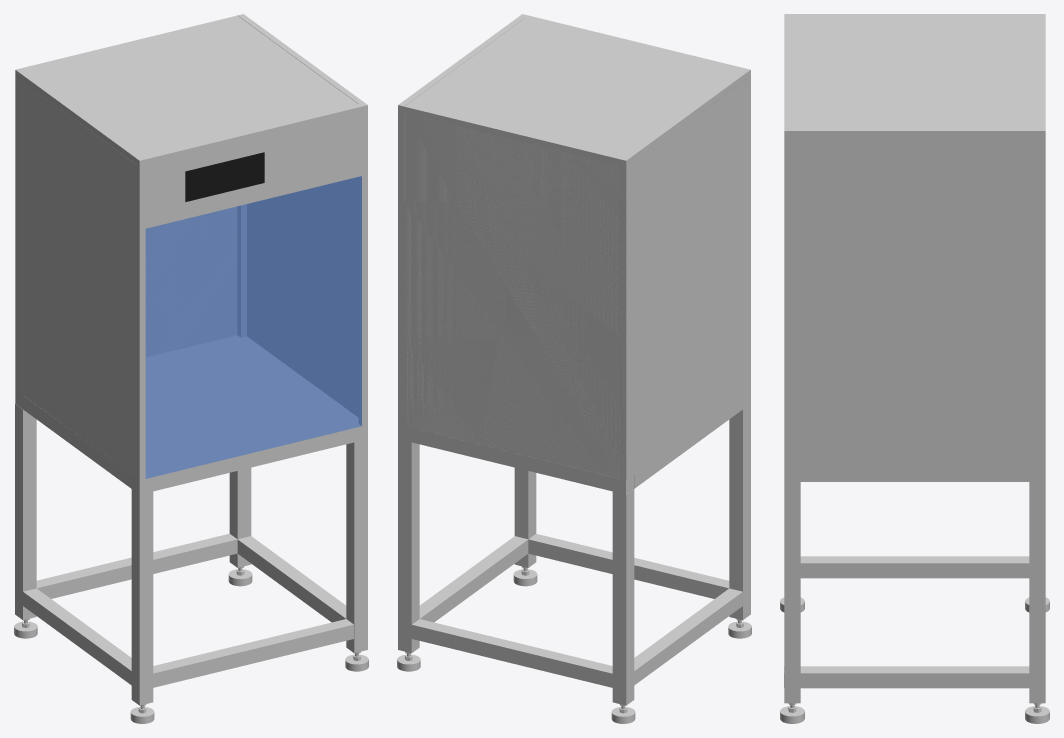
3 renders of one model, left to right at view 1: azimuth 30°, elevation 25°; view 2: azimuth 150°, elevation 25°; view 3: azimuth 270°, elevation 25°, orthographic. The views are drawn at different scales.
Visible parts, largest first — view 1: SketchUp (×5), OP70 (×5), leg (×4); view 2: OP70 (×3), SketchUp (×3), leg (×4), top_rail; view 3: OP70 (×2), SketchUp (×2), leg (×2).
Boxes of the visible parts, x1,y1,x2,y2 form: SketchUp (×5): [15, 14, 367, 687]; OP70 (×5): [18, 18, 361, 477]; leg (×4): [15, 403, 367, 705]; OP70 (×3): [404, 18, 747, 478]; SketchUp (×3): [398, 14, 750, 687]; leg (×4): [398, 404, 750, 705]; top_rail: [398, 425, 633, 494]; OP70 (×2): [791, 17, 1038, 466]; SketchUp (×2): [784, 14, 1045, 688]; leg (×2): [784, 482, 1045, 703].
Bounding box in the file's own units: 34.41 × 32.57 × 78.71.
